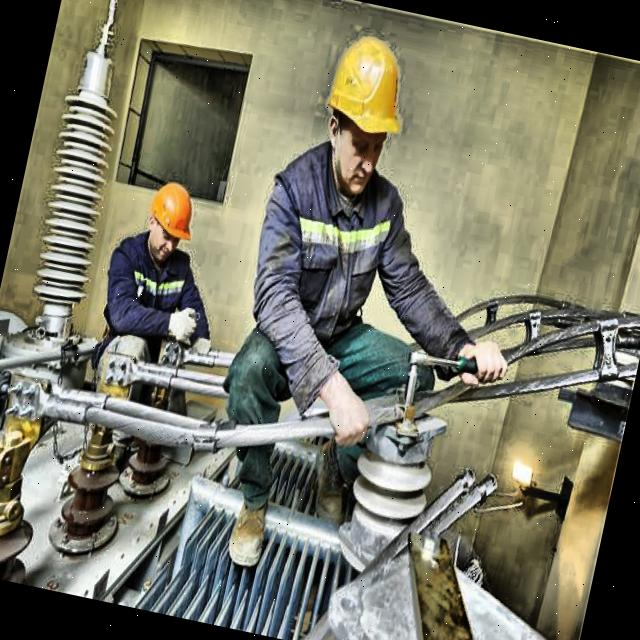helmet: (296, 11, 428, 210), (132, 166, 205, 268)
